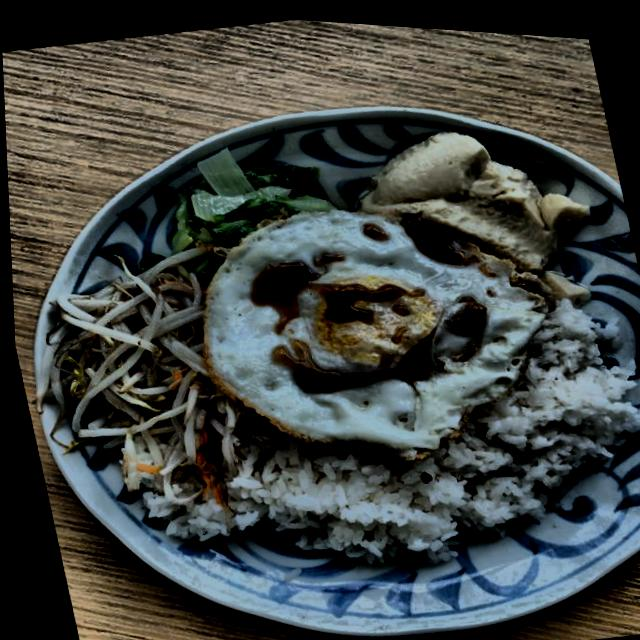Food: (209, 190, 523, 452), (238, 379, 594, 559), (53, 261, 226, 465)
